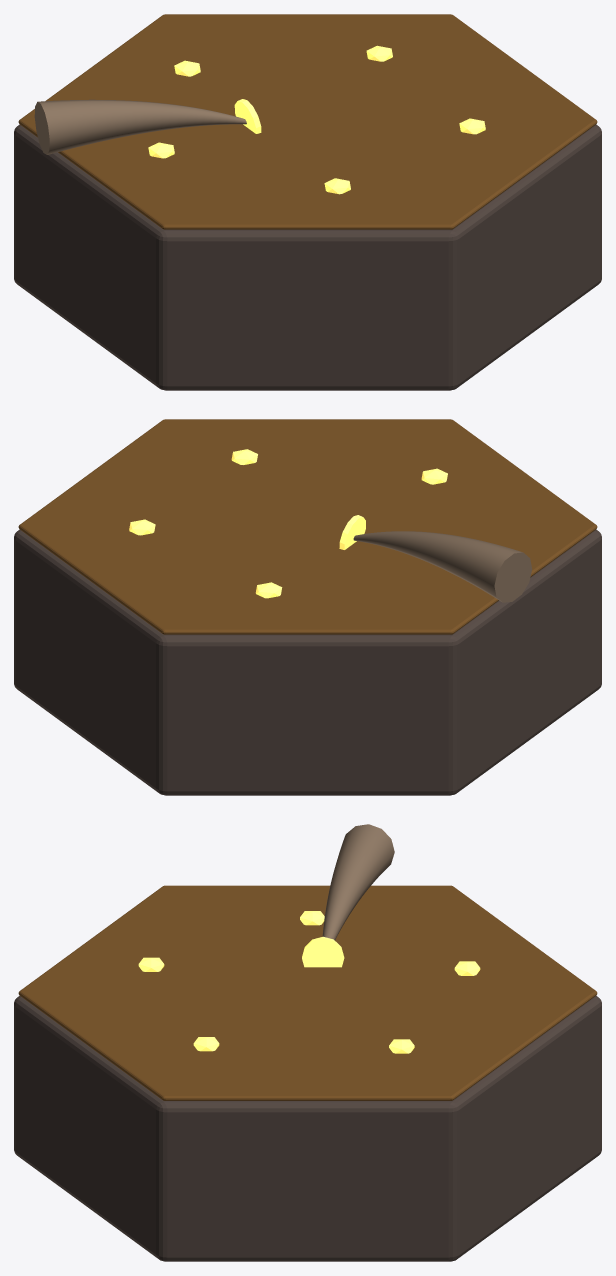
File: hex_sap.glb
3 renders of one model, top to bottom at view 1: azimuth 30°, elevation 25°; view 2: azimuth 150°, elevation 25°; view 3: azimuth 270°, elevation 25°, orthographic.
Visible parts, largest first — view 1: hex_sap; view 2: hex_sap; view 3: hex_sap.
Boxes of the visible parts, <box> form: hex_sap: <box>14,14,601,390</box>; hex_sap: <box>14,419,601,795</box>; hex_sap: <box>14,824,601,1261</box>.
Bounding box in the file's own units: 1.77 × 0.7899 × 1.95.
